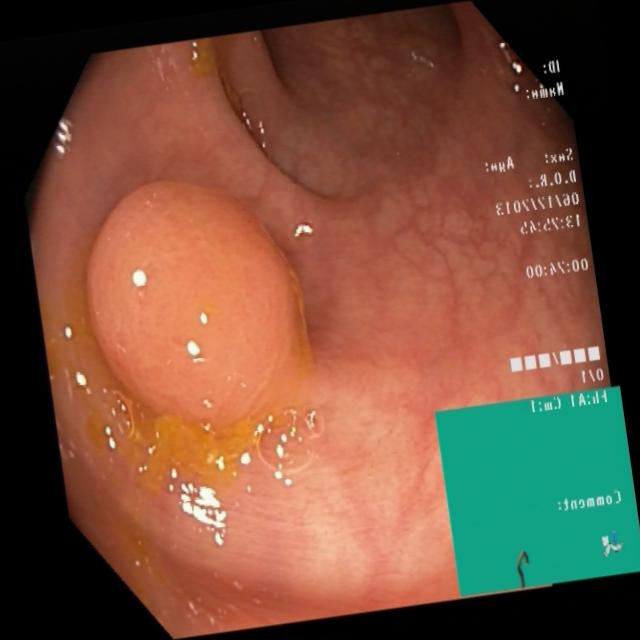Polyps: (86, 178, 322, 497)
